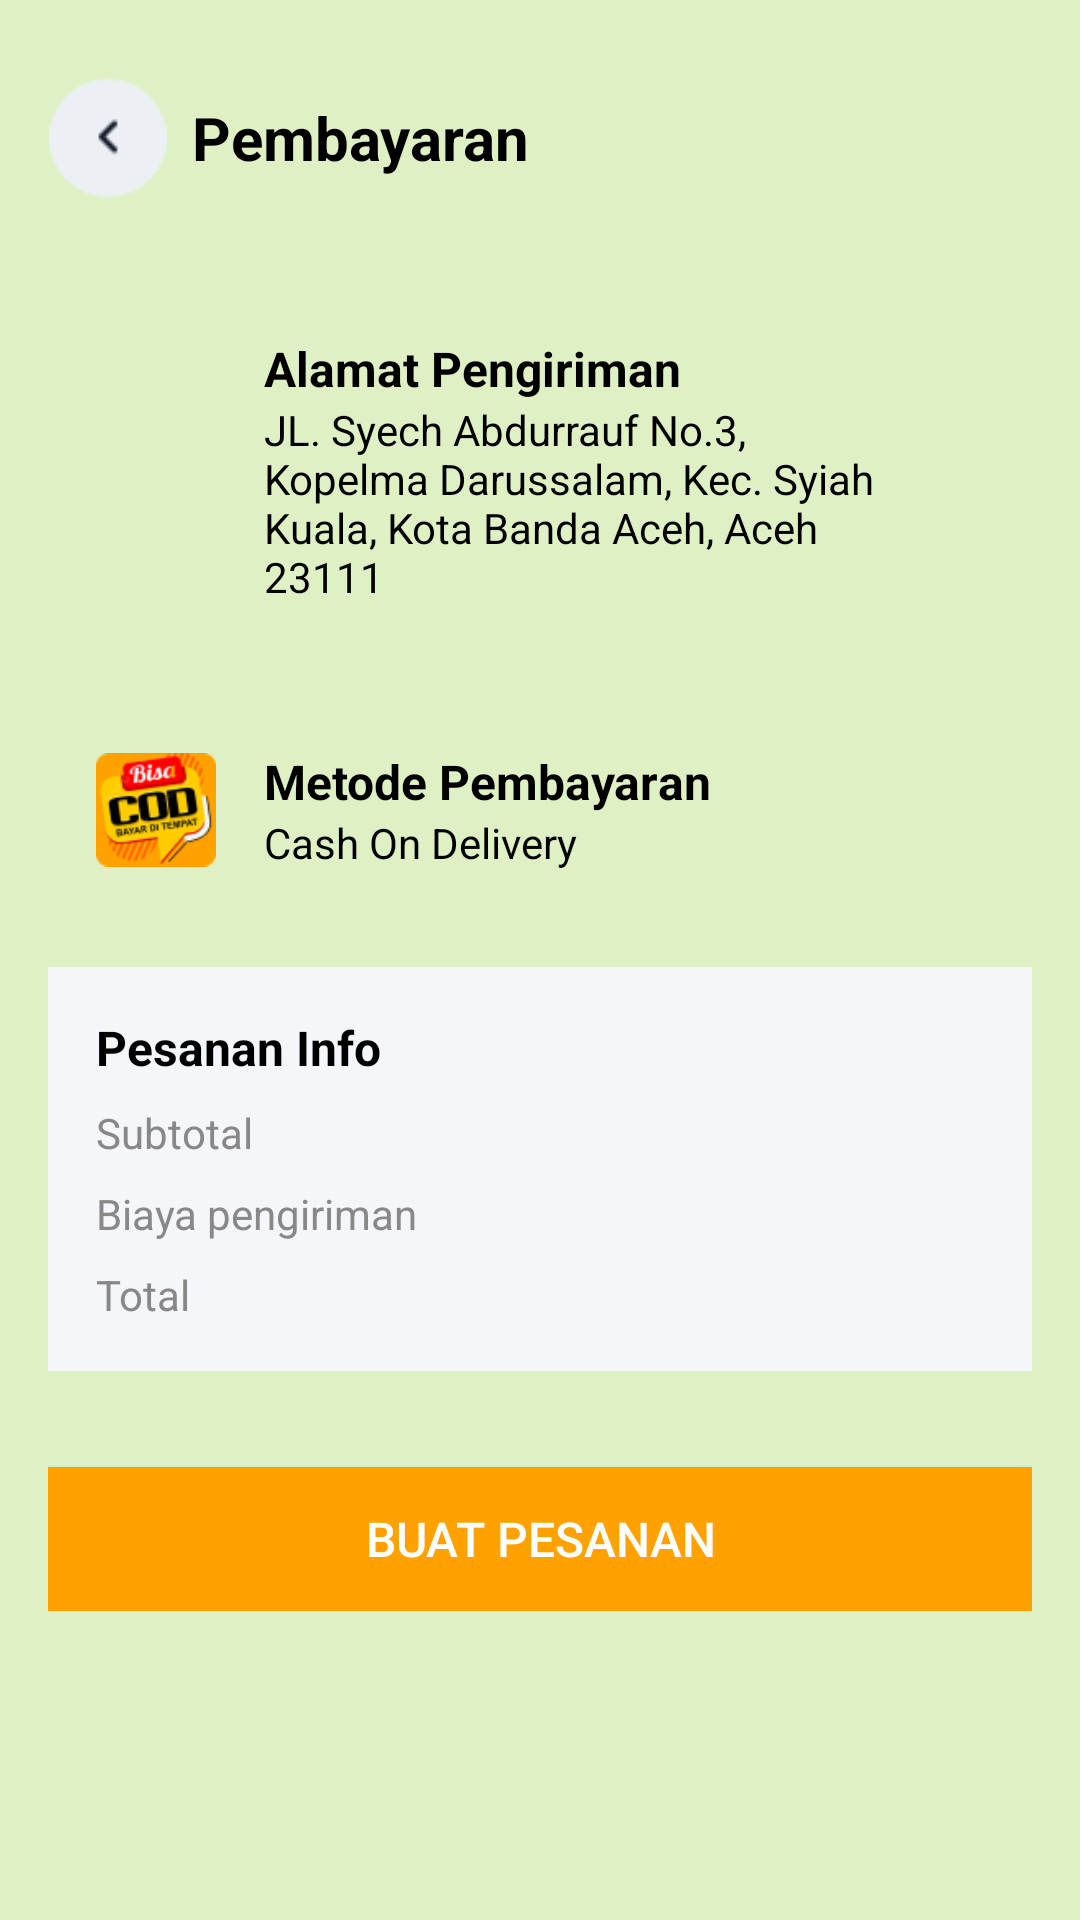

Icon bounding boxes for this 1080x1920 phone screenshot, format {"x1": x1, "y1": y1, "x2": x2, "y2": y2}:
Back Button: {"x1": 49, "y1": 78, "x2": 167, "y2": 198}
Payment Icon: {"x1": 96, "y1": 753, "x2": 216, "y2": 867}
